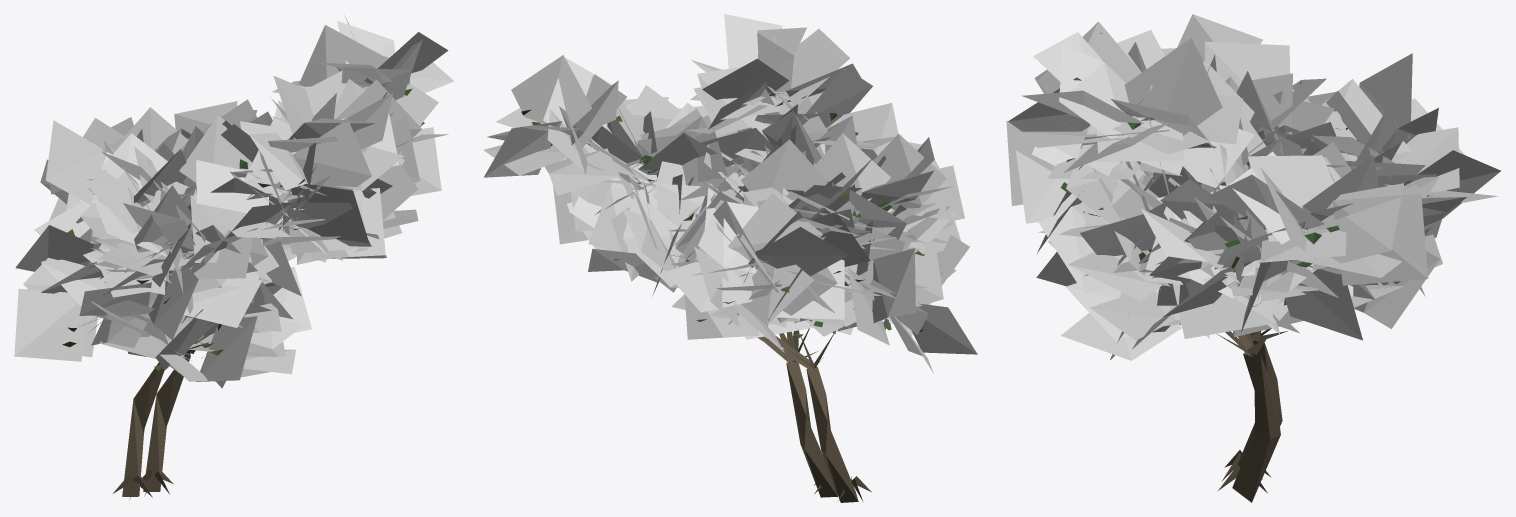
File: CheneVert_Incline_LOD2.fbx
3 renders of one model, left to right at view 1: azimuth 30°, elevation 25°; view 2: azimuth 150°, elevation 25°; view 3: azimuth 270°, elevation 25°, orthographic. The views are drawn at different scales.
Visible parts, largest first — view 1: CheneVert_Incline_LOD2; view 2: CheneVert_Incline_LOD2; view 3: CheneVert_Incline_LOD2.
Part boxes in pixels (x1=…): CheneVert_Incline_LOD2: x1=14, y1=15, x2=454, y2=500; CheneVert_Incline_LOD2: x1=483, y1=14, x2=977, y2=502; CheneVert_Incline_LOD2: x1=1006, y1=14, x2=1500, y2=502.
Bounding box in the file's own units: 875 × 754 × 651.
